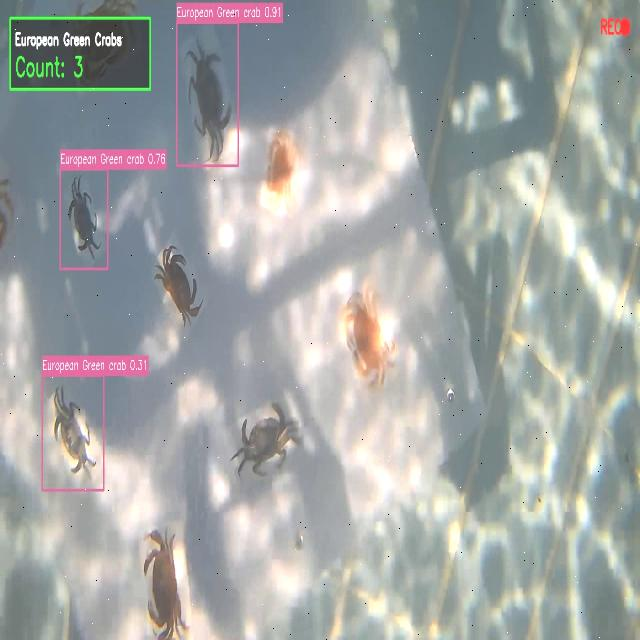European_Green_Crab: (42, 378, 107, 501), (229, 390, 303, 498), (182, 31, 241, 163), (60, 168, 112, 281)
